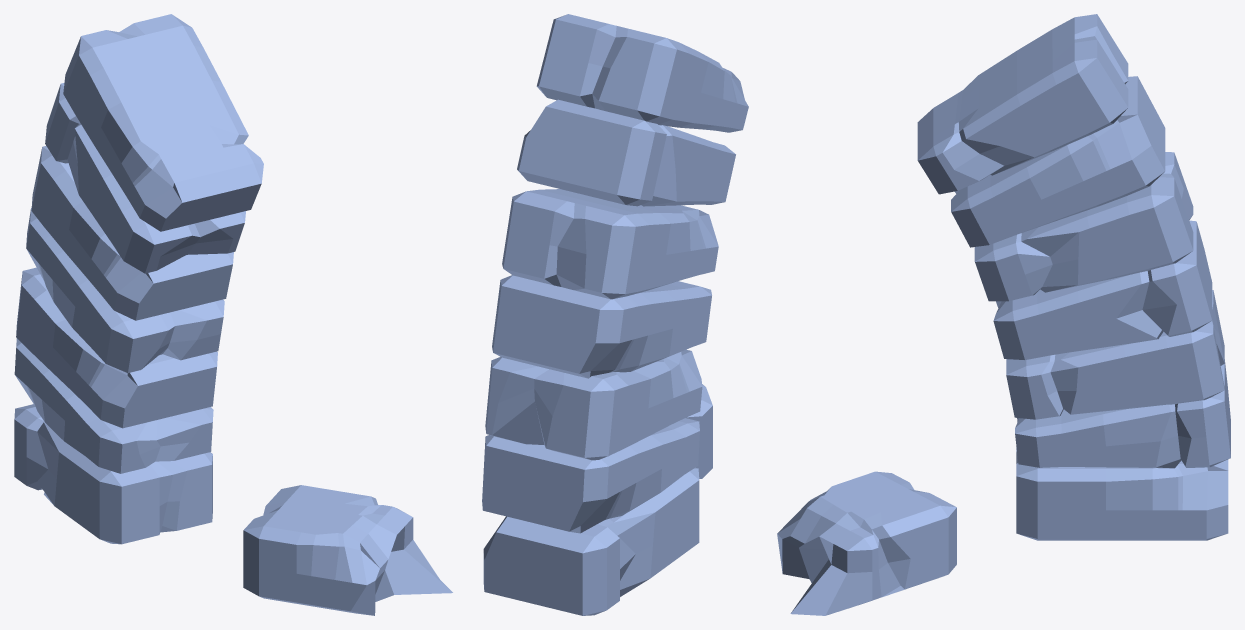
Rendered from Vampire_Assets_ArcDerruido.fbx.
3 renders of one model, left to right at view 1: azimuth 30°, elevation 25°; view 2: azimuth 150°, elevation 25°; view 3: azimuth 270°, elevation 25°, orthographic. The views are drawn at different scales.
Visible parts, largest first — view 1: Cube.012; view 2: Cube.012; view 3: Cube.012.
Boxes of the visible parts, x1,y1,x2,y2 form: Cube.012: (14,14,452,615); Cube.012: (482,14,748,615); Cube.012: (777,14,1230,615).
Bounding box in the file's own units: 444 × 905 × 752.
